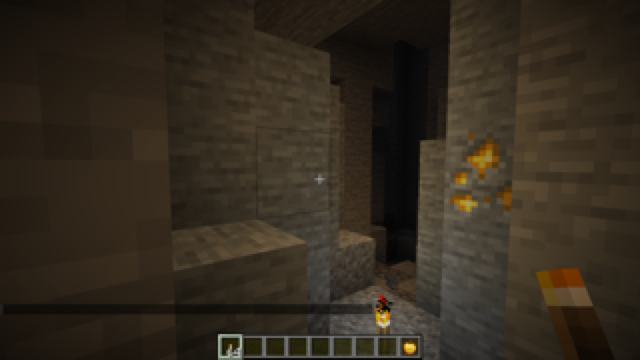gold: (443, 132, 533, 219)
